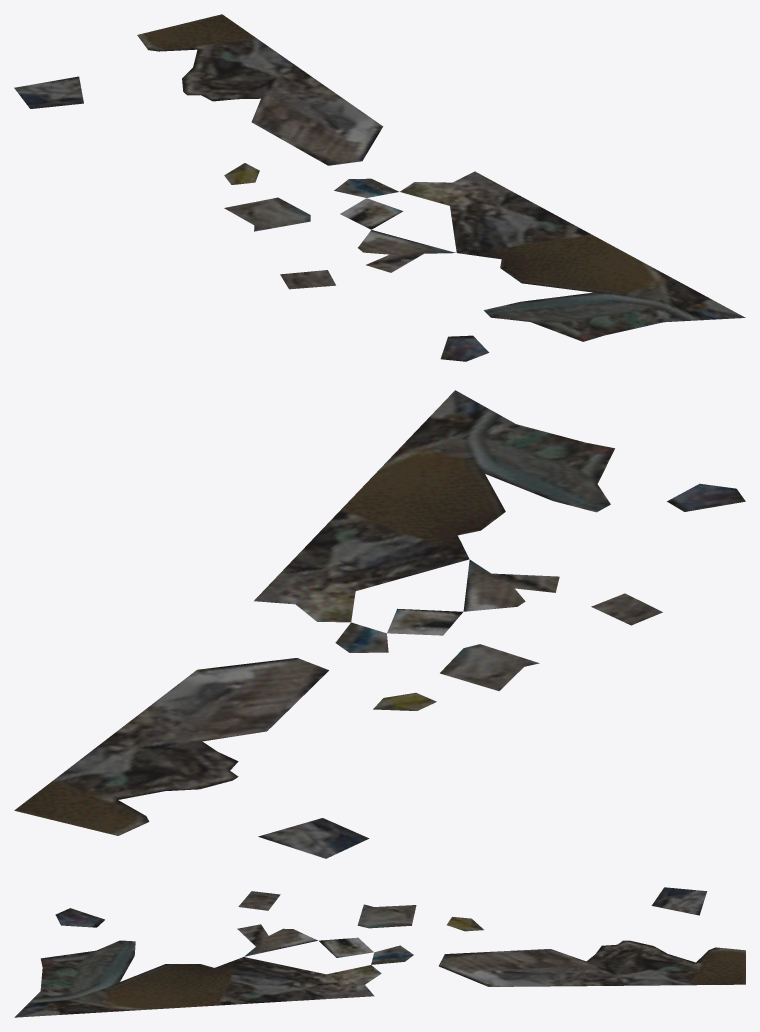
Rendered from bz_trash_06.fbx.
3 views of the same model, one above another, from view 1: azimuth 30°, elevation 25°; view 2: azimuth 150°, elevation 25°; view 3: azimuth 270°, elevation 25° (orthographic). The views are drawn at different scales.
Parts seen in each view (by area): view 1: bz_trash_06; view 2: bz_trash_06; view 3: bz_trash_06.
Part boxes in pixels (x1,y1,x2,y2): bz_trash_06: (14,14,745,361); bz_trash_06: (14,390,745,858); bz_trash_06: (14,887,745,1017).
Size of the model in its own units: 3.47 by 1.34e-06 by 8.22.
